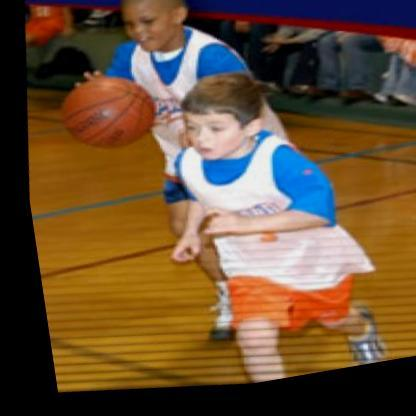basketball: (43, 67, 161, 165)
